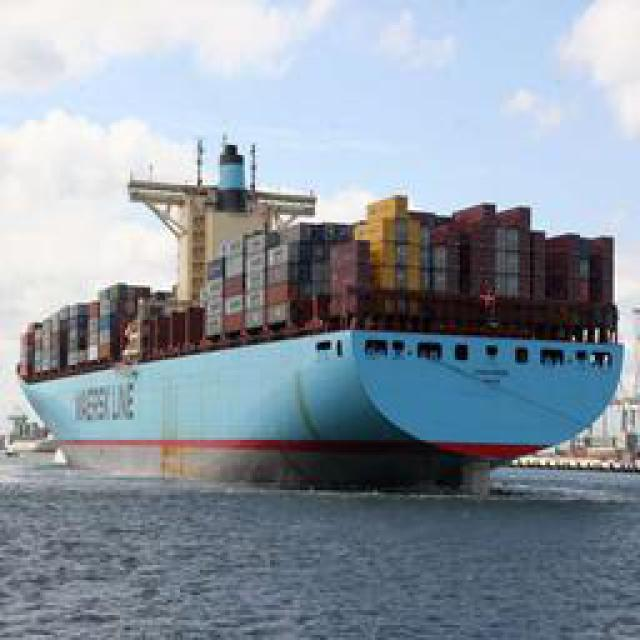Ship: (16, 195, 626, 485)
